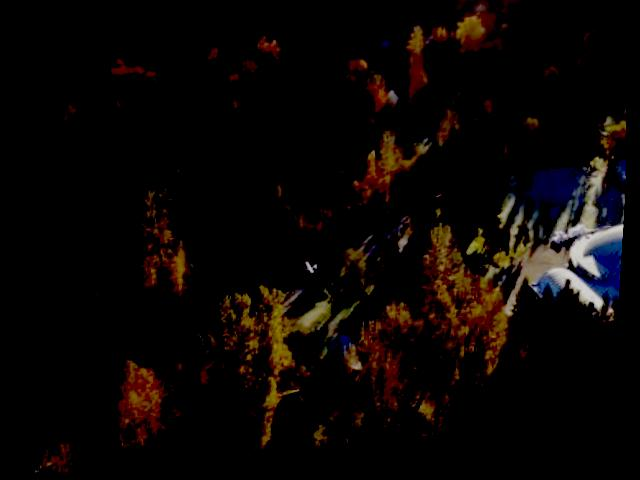uav: (302, 256, 332, 288)
